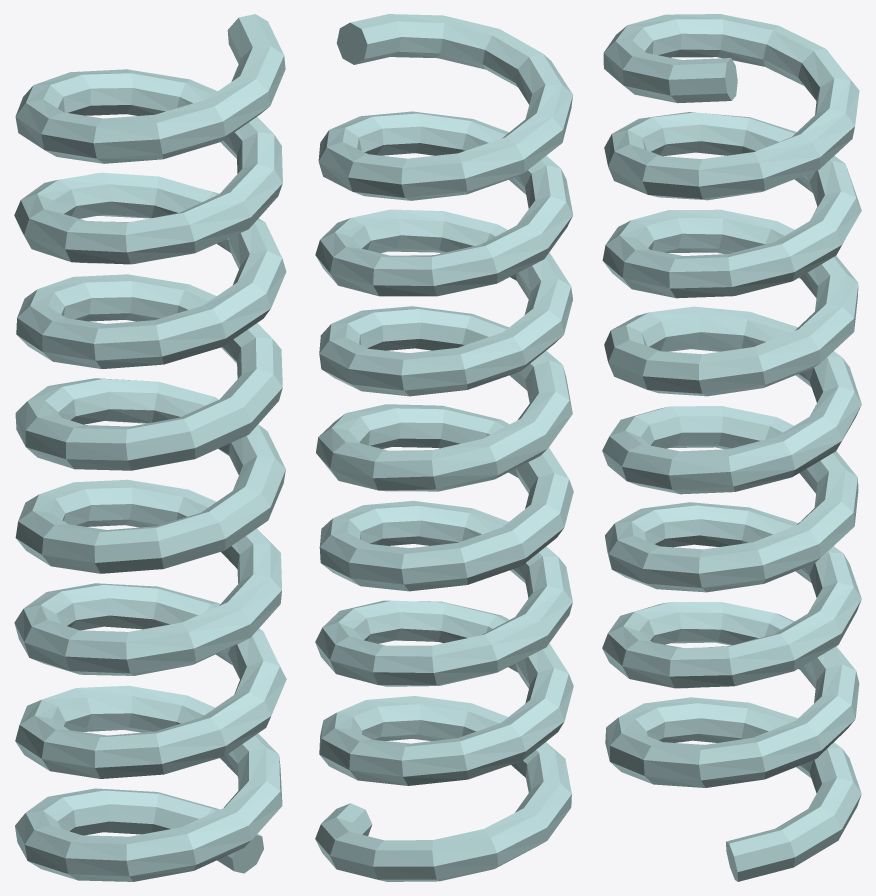
Rendered from Spring.obj.
3 views of the same model, side by side, from view 1: azimuth 30°, elevation 25°; view 2: azimuth 150°, elevation 25°; view 3: azimuth 270°, elevation 25° (orthographic). The views are drawn at different scales.
Parts seen in each view (by area): view 1: Helix_sweep, Cap_1; view 2: Helix_sweep, Cap_2; view 3: Helix_sweep.
Part boxes in pixels (x1,y1,x2,y2): Helix_sweep: (14,14,286,881); Cap_1: (232,835,263,873); Helix_sweep: (315,14,573,881); Cap_2: (336,22,367,64); Helix_sweep: (602,14,861,881).
Size of the model in its own units: 103 by 360 by 103.
